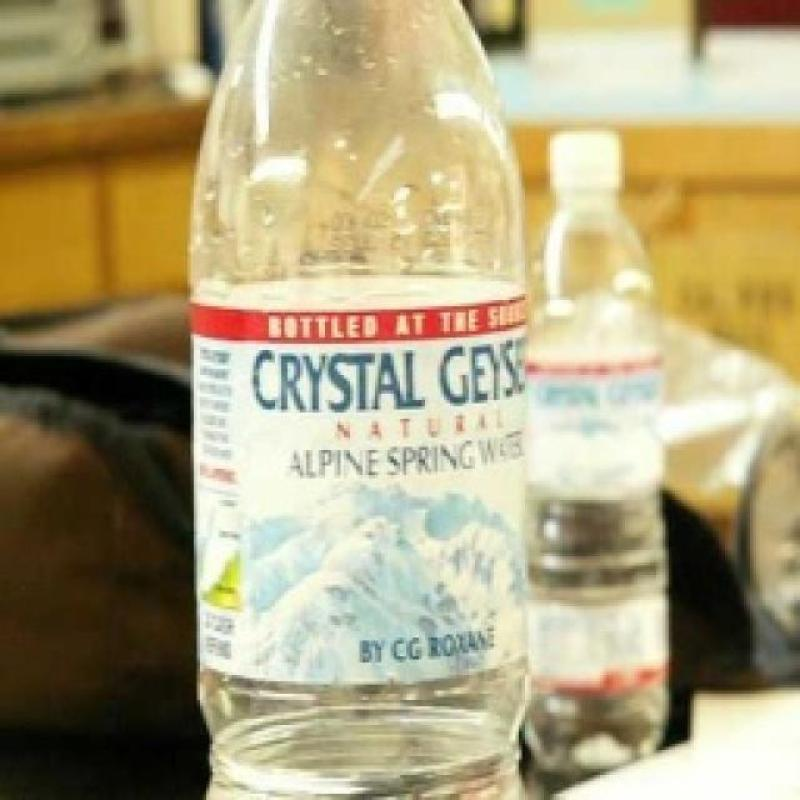botella: (186, 0, 533, 800), (530, 129, 670, 773)
